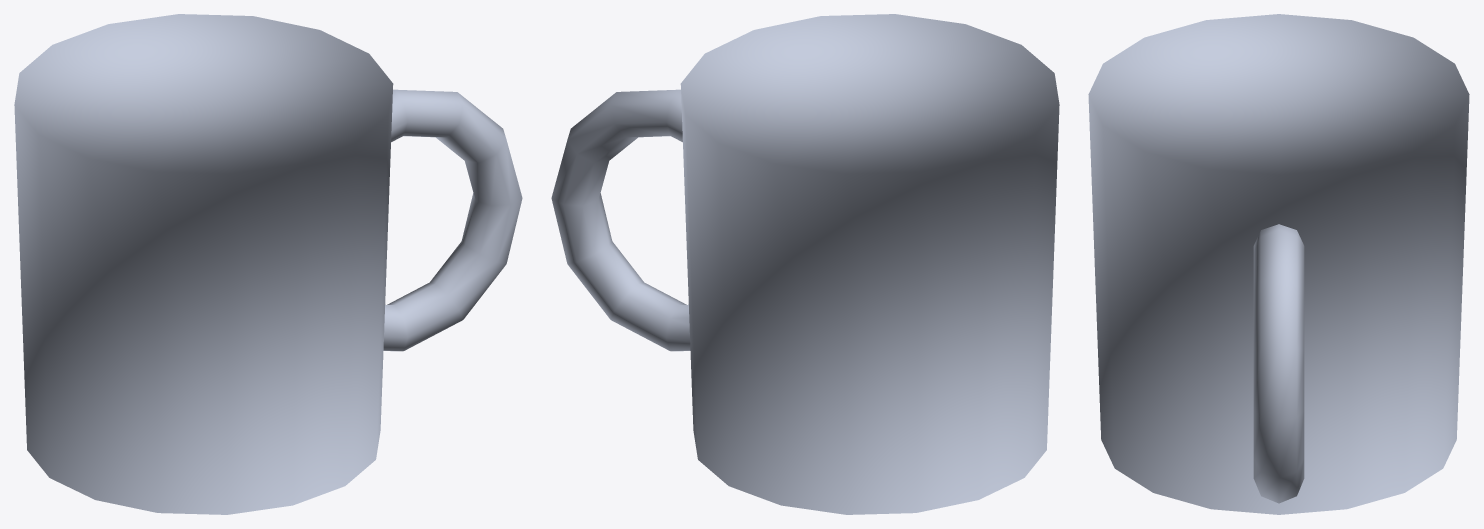
The model's file is polygen_a_ceramic_coffee_mug_wit_2cb18d16.obj.
3 views of the same model, side by side, from view 1: azimuth 30°, elevation 25°; view 2: azimuth 150°, elevation 25°; view 3: azimuth 270°, elevation 25° (orthographic).
Visible parts, largest first — view 1: Mug; view 2: Mug; view 3: Mug.
Part boxes in pixels (x1=…): Mug: x1=14, y1=14, x2=522, y2=514; Mug: x1=551, y1=14, x2=1059, y2=514; Mug: x1=1088, y1=14, x2=1469, y2=514.
Bounding box in the file's own units: 2 × 1.37 × 1.37.
